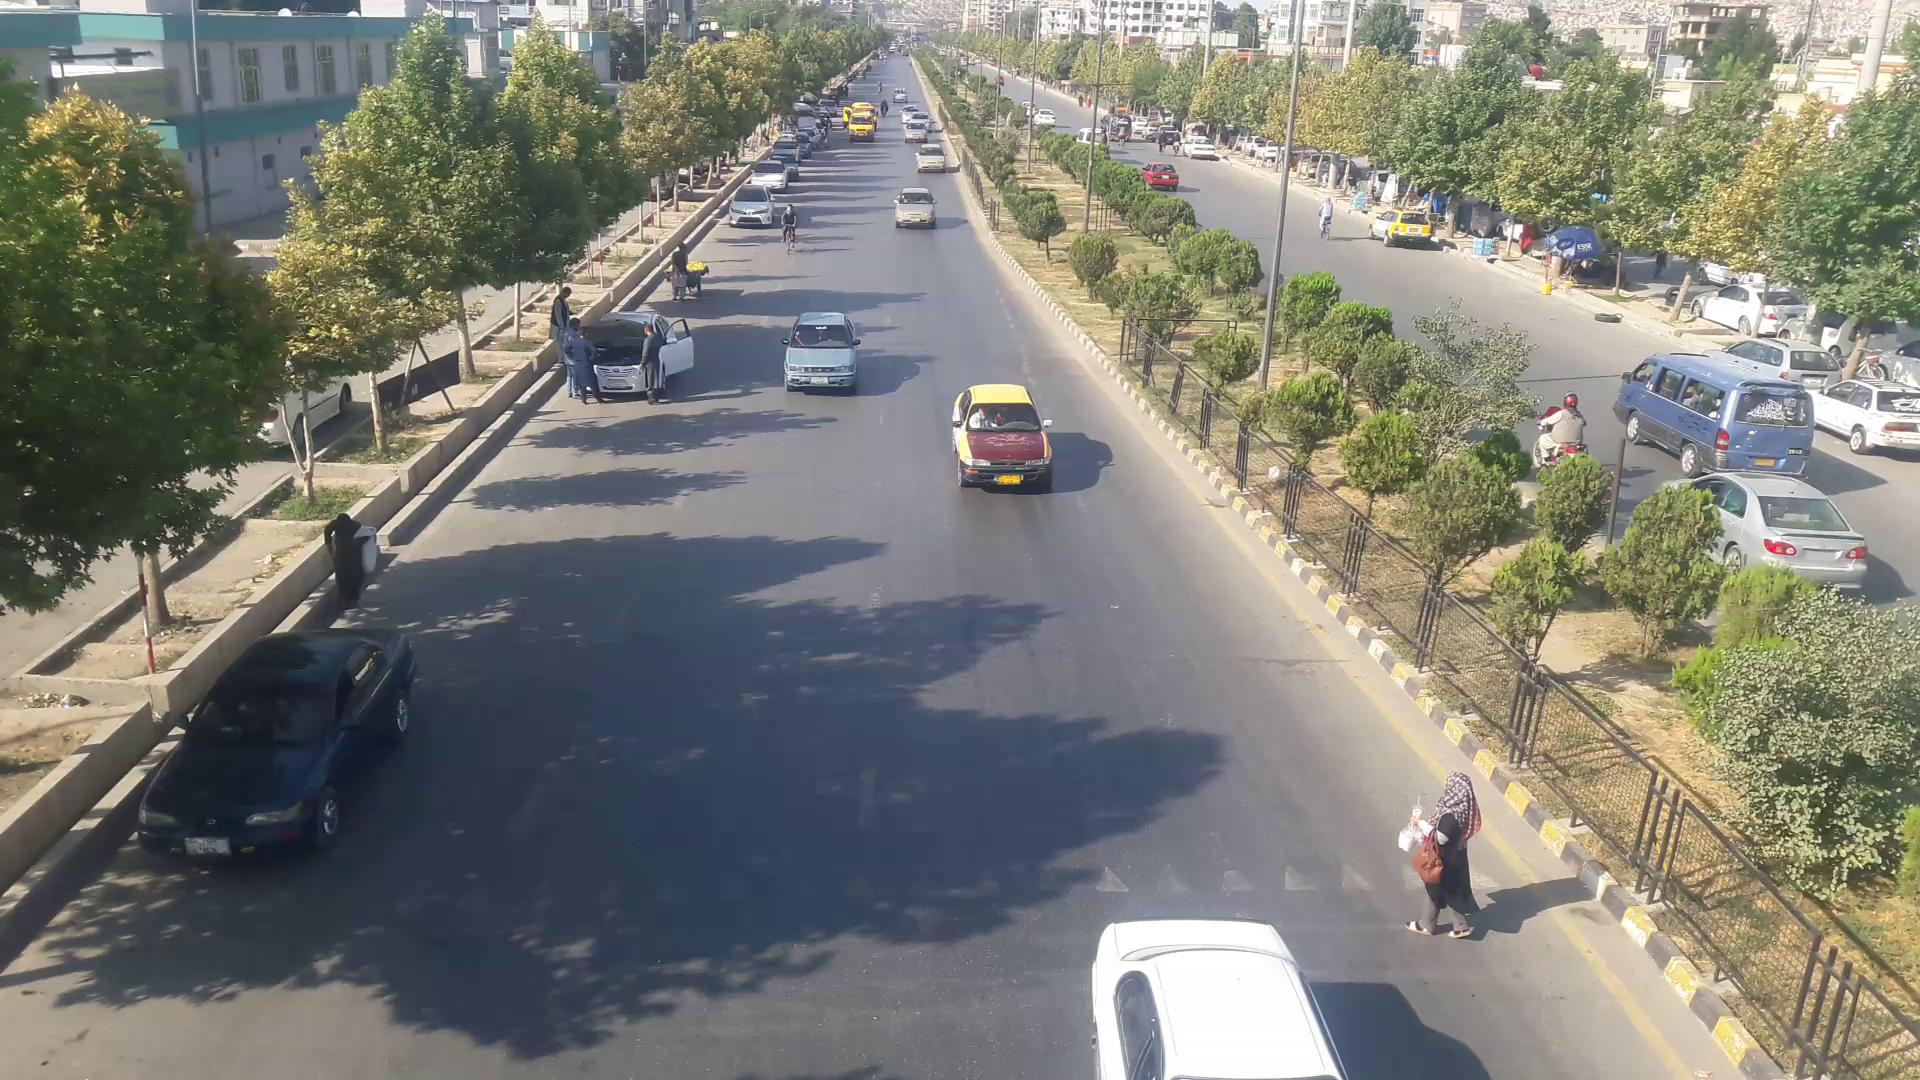bus: (1618, 355, 1821, 479)
car: (141, 626, 421, 864), (1073, 907, 1346, 1080), (1669, 473, 1891, 597), (571, 311, 695, 402), (959, 388, 1058, 493), (1714, 344, 1844, 394), (783, 311, 860, 392), (1364, 210, 1433, 247), (727, 185, 775, 225), (891, 190, 936, 229), (750, 162, 789, 191), (1138, 164, 1178, 191), (914, 144, 947, 174), (770, 153, 800, 177), (903, 123, 928, 142), (773, 140, 799, 157)
